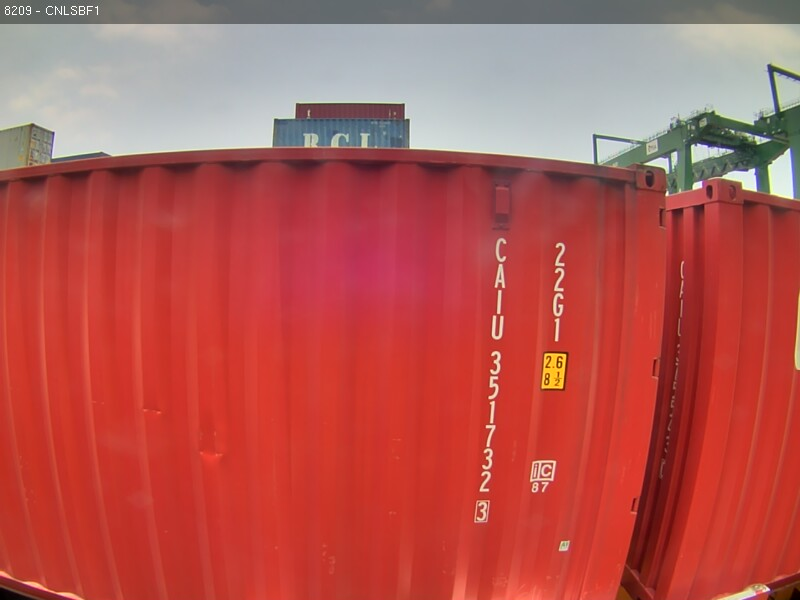container_no_door: (172, 155, 678, 599)
